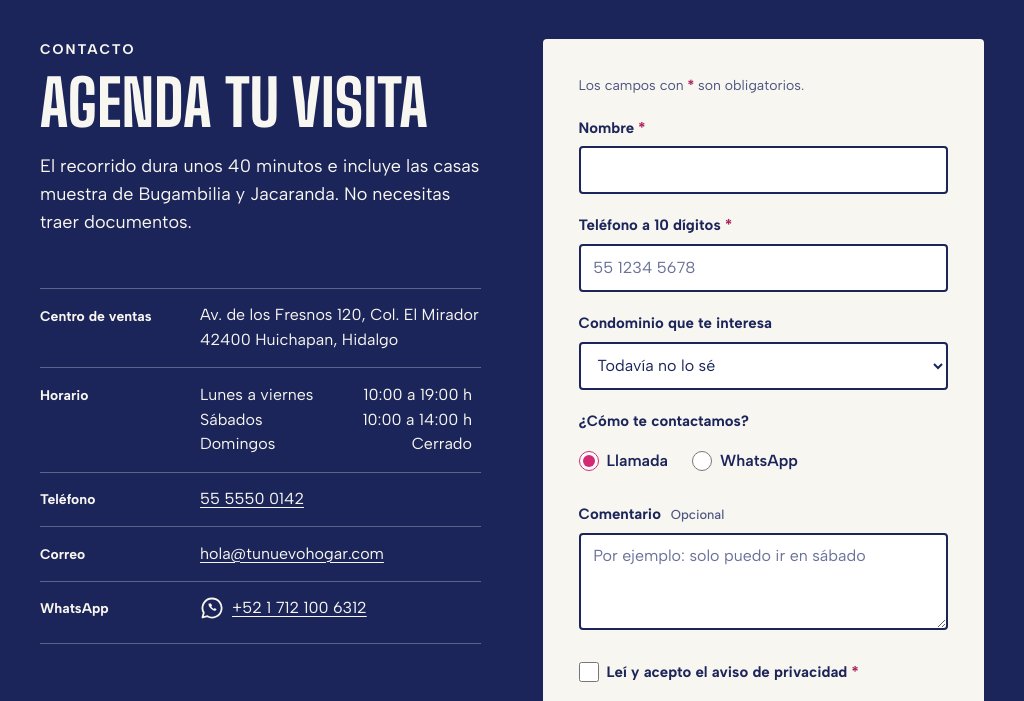
Test: Contact: validation › rejects the phone "<script>55-12 abc 34;DROP 5678</script>" even though it contains ten digits
This screenshot has width=1024, height=701.
Click the checkbox labelled "Leí y acepto el aviso de privacidad *".
click(588, 672)  # box [578,662,598,682]
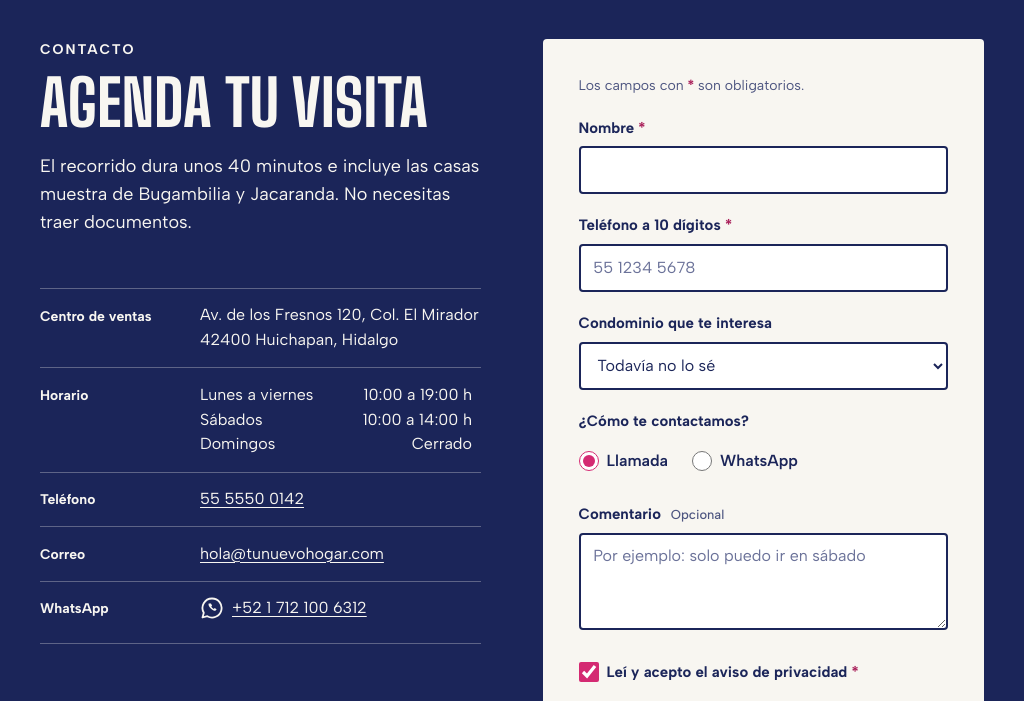
Type "Ana López" into the field labelled "Nombre *".
click(763, 170); type("Ana López")  # box [578,146,948,194]
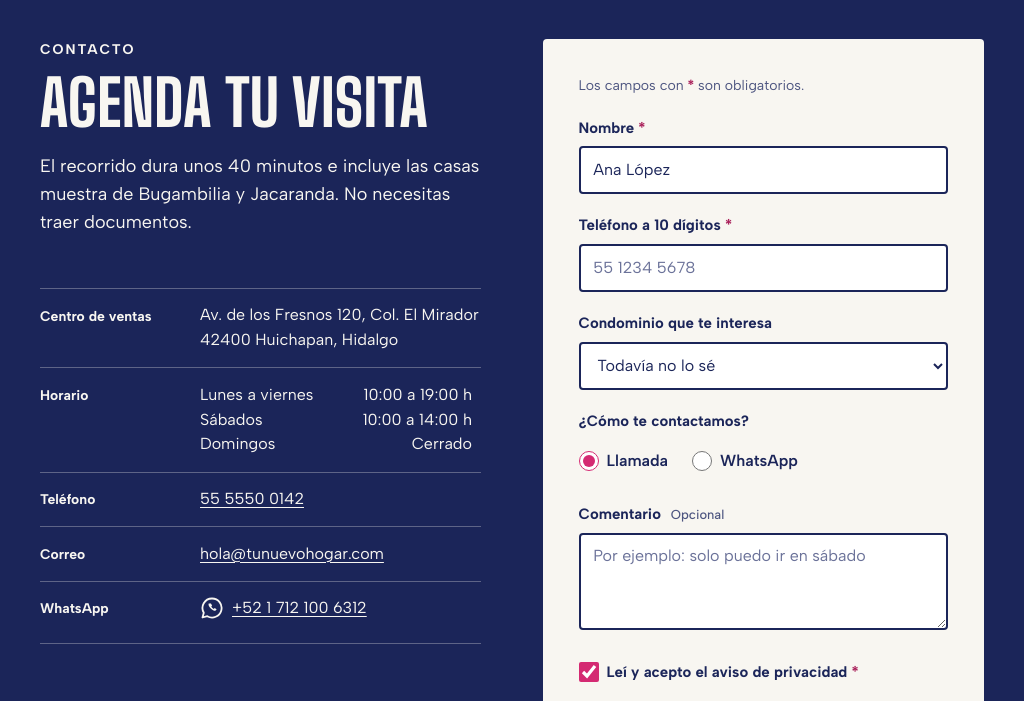
Type "<script>55-12 abc 34;DROP 5678</script>" into the field labelled "Teléfono a 10 dígitos *".
click(763, 268); type("<script>55-12 abc 34;DROP 5678</script>")  # box [578,244,948,292]
(page scrolled)
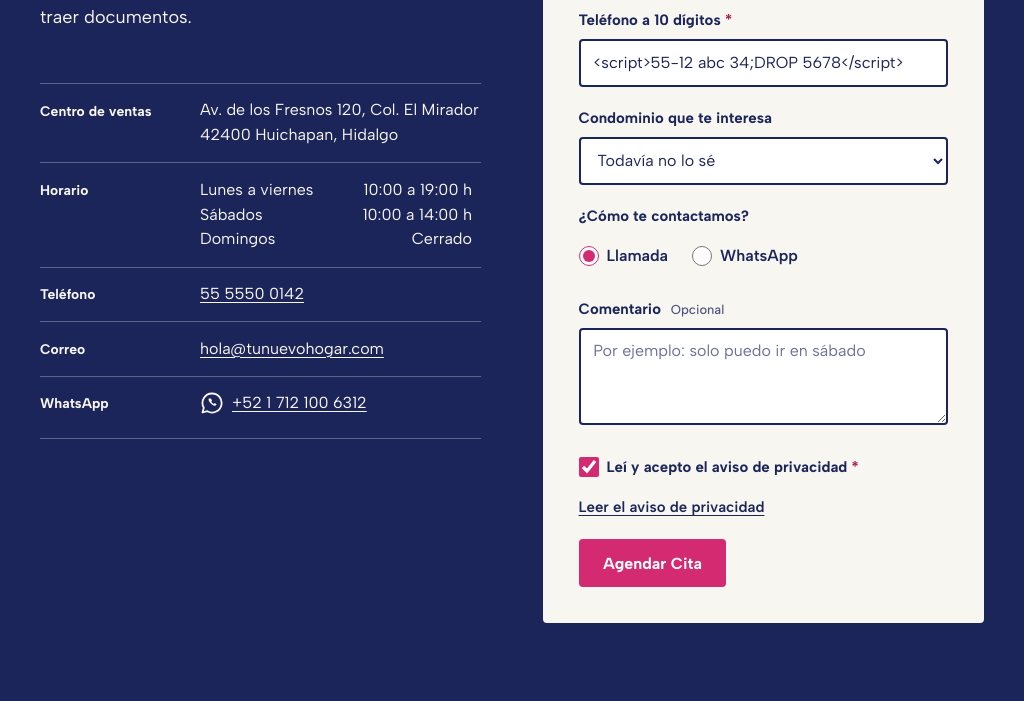
Click the button "Agendar Cita".
click(652, 563)  # box [578,539,726,587]
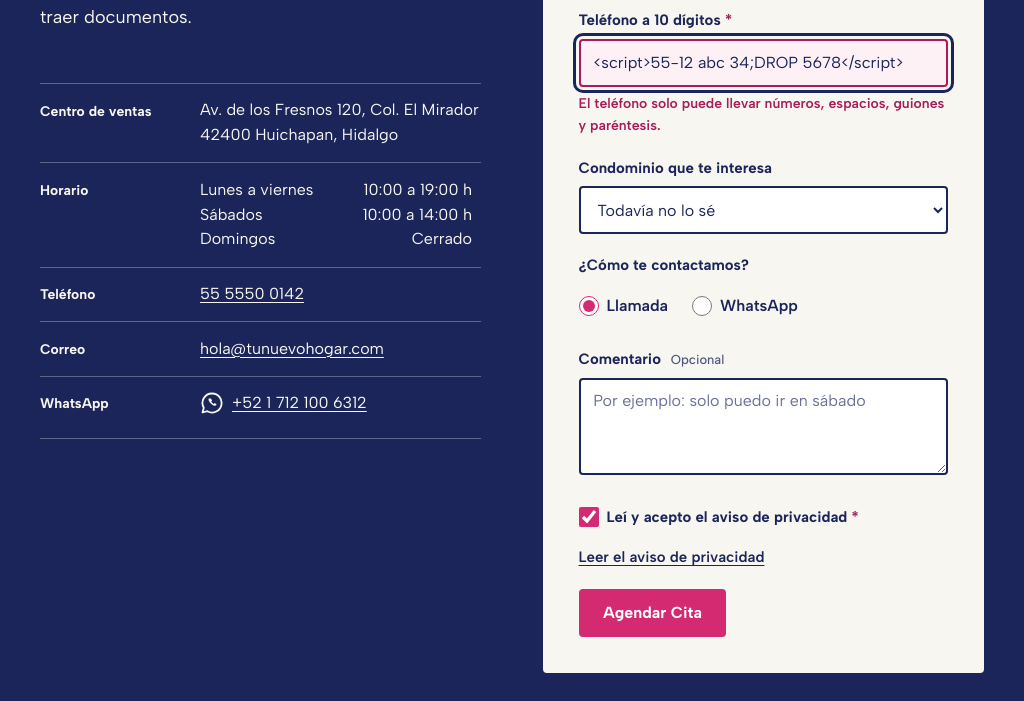
Check: the text "El teléfono solo puede llevar números, espacios, guiones y paréntesis." is shown, box [578,93,948,137]
